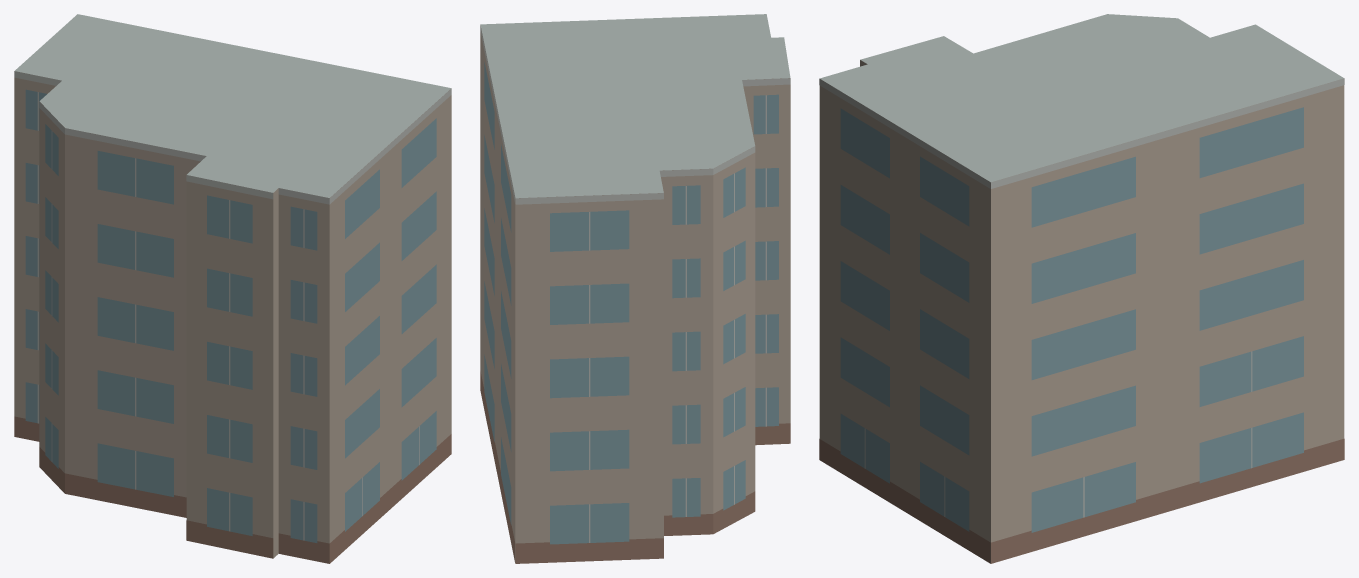
The model's file is survey-upis-33027067.glb.
3 views of the same model, side by side, from view 1: azimuth 30°, elevation 25°; view 2: azimuth 150°, elevation 25°; view 3: azimuth 270°, elevation 25° (orthographic). The views are drawn at different scales.
Visible parts, largest first — view 1: survey-upis-33027067.tmp; view 2: survey-upis-33027067.tmp; view 3: survey-upis-33027067.tmp.
Part boxes in pixels (bbox=[...]): survey-upis-33027067.tmp: bbox=[14, 14, 451, 563]; survey-upis-33027067.tmp: bbox=[480, 14, 790, 563]; survey-upis-33027067.tmp: bbox=[819, 14, 1344, 563].
Bounding box in the file's own units: 13 × 13.73 × 17.13.
